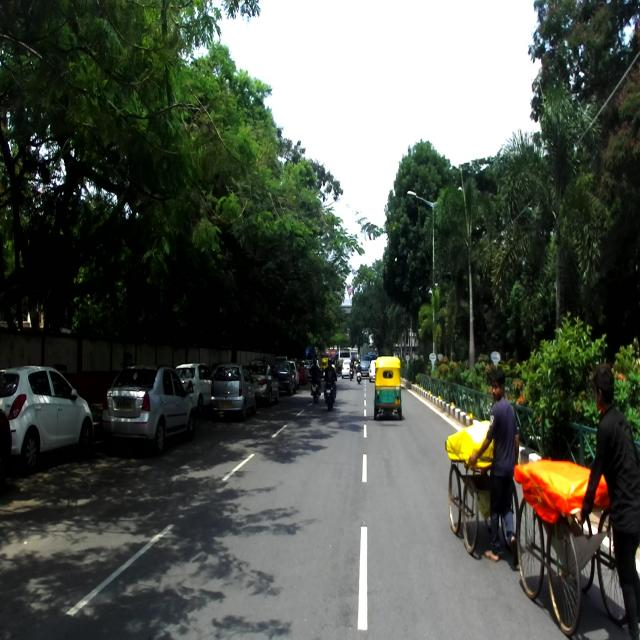car: (0, 364, 94, 472), (100, 363, 196, 456), (208, 362, 258, 422), (274, 358, 298, 396)
motorcycle: (324, 379, 336, 411)
